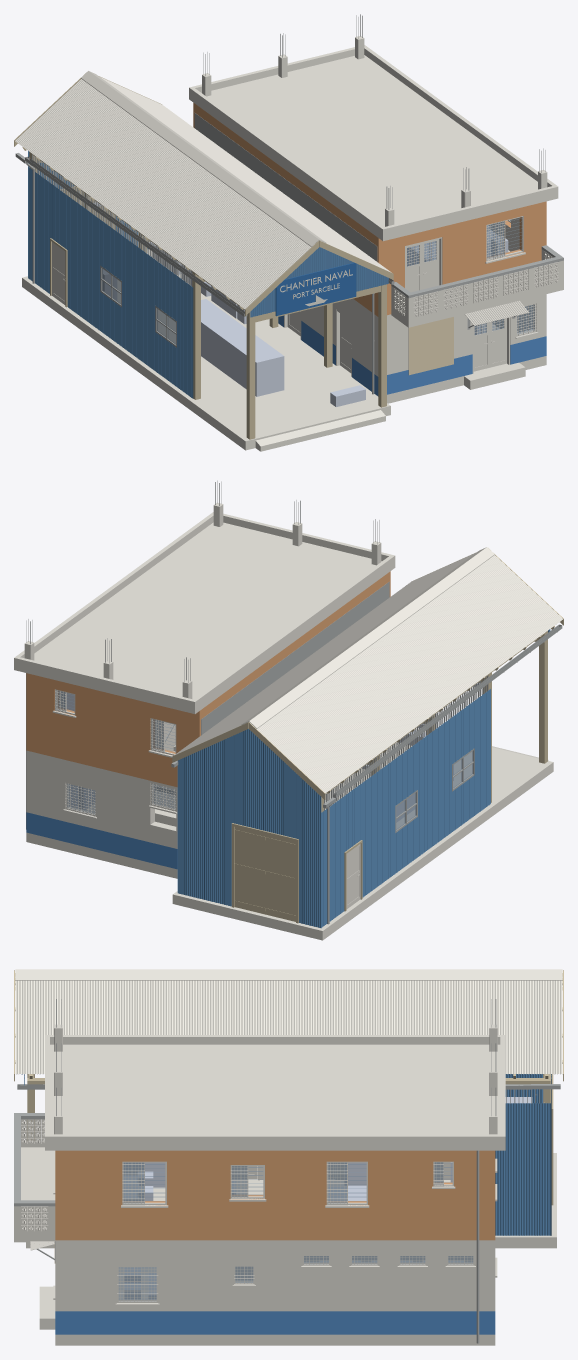
Rendered from sarcelle_h12.glb.
3 views of the same model, one above another, from view 1: azimuth 30°, elevation 25°; view 2: azimuth 150°, elevation 25°; view 3: azimuth 270°, elevation 25° (orthographic). The views are drawn at different scales.
Visible parts, largest first — view 1: Shell_Block, Hall_Roof_Corrugated, Hall_Wall_Corrugated, Hall_Timber, galvanized_steel, concrete_cast, Ph_workshop_boat_hull_01, steel_painted_worn, new_screen_block_concrete, sign_chantier_naval, poster_pirogues_wall, glass (+11 smaller); view 2: Shell_Block, Hall_Roof_Corrugated, Hall_Wall_Corrugated, galvanized_steel, Hall_Timber, glass, DoorLeaf_12b_R_in, DoorLeaf_12a_L_in, concrete_cast, steel_painted_worn, new_paint_teal_worn, wood_weathered (+1 smaller); view 3: Shell_Block, Hall_Roof_Corrugated, Hall_Wall_Corrugated, glass, new_paint_teal_worn, concrete_cast, new_screen_block_concrete, steel_painted_worn, galvanized_steel, Hall_Timber, Ph_living_sofa_01, Ph_bedroom_bed_double_01 (+1 smaller).
Boxes of the visible parts, x1,y1,x2,y2 form: Shell_Block: (22,45,563,450); Hall_Roof_Corrugated: (15,71,391,309); Hall_Wall_Corrugated: (28,151,388,398); Hall_Timber: (14,72,393,439); galvanized_steel: (15,113,394,394); concrete_cast: (202,36,563,451); Ph_workshop_boat_hull_01: (201,299,284,396); steel_painted_worn: (32,154,563,347); new_screen_block_concrete: (394,251,558,317); sign_chantier_naval: (275,262,356,316); poster_pirogues_wall: (408,317,453,375); glass: (102,218,534,344); Shell_Block: (14,512,553,940); Hall_Roof_Corrugated: (174,547,562,793); Hall_Wall_Corrugated: (177,629,550,928); galvanized_steel: (26,581,562,924); Hall_Timber: (172,548,563,812); glass: (56,690,472,829); DoorLeaf_12b_R_in: (234,827,265,914); DoorLeaf_12a_L_in: (265,834,295,921); concrete_cast: (24,502,548,826); steel_painted_worn: (162,675,488,832); new_paint_teal_worn: (54,689,176,816); wood_weathered: (231,823,362,923); Shell_Block: (14,1035,556,1345); Hall_Roof_Corrugated: (15,969,562,1074); Hall_Wall_Corrugated: (24,1074,551,1235); glass: (118,1162,473,1301); new_paint_teal_worn: (117,1161,474,1303); concrete_cast: (14,1024,497,1329); new_screen_block_concrete: (21,1119,48,1231); steel_painted_worn: (14,1089,543,1262); galvanized_steel: (17,1084,560,1343); Hall_Timber: (14,970,563,1140); Ph_living_sofa_01: (124,1162,165,1187); Ph_bedroom_bed_double_01: (328,1185,366,1200).
Size of the model in its own units: 13 by 8.2 by 16.
